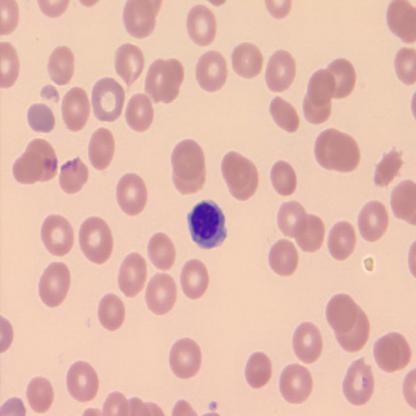NRC: (186, 197, 228, 252)
